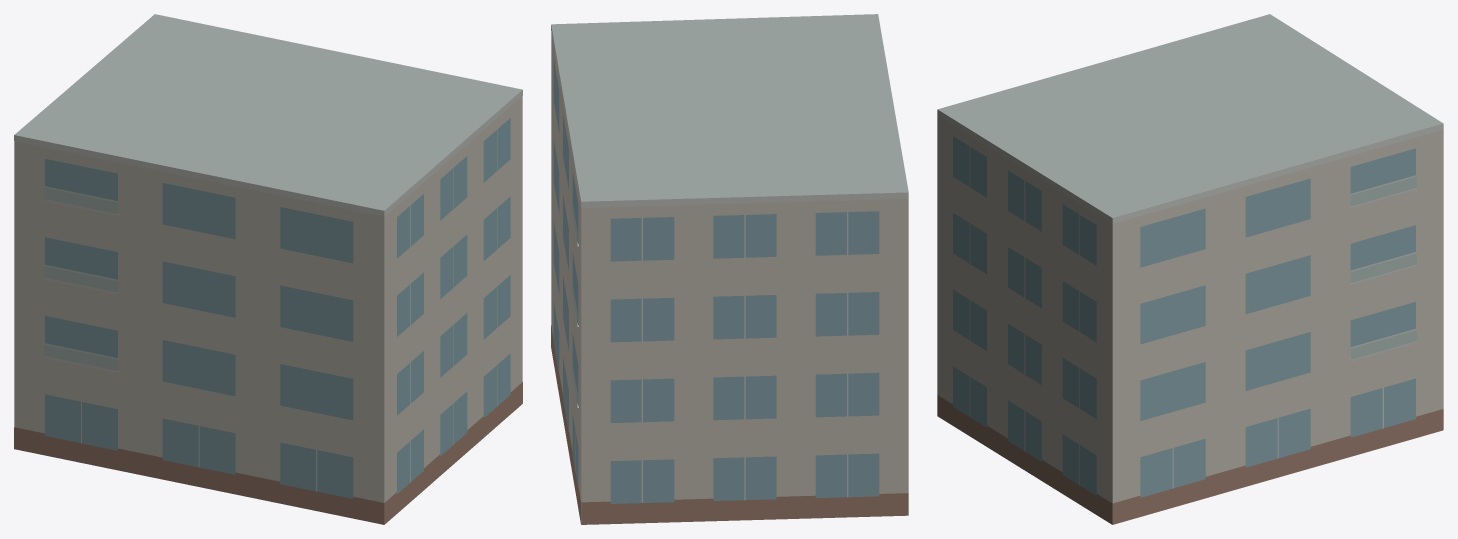
The model's file is survey-upis-32977647.glb.
The picture shows the model from 3 angles, left to right: view 1: azimuth 30°, elevation 25°; view 2: azimuth 150°, elevation 25°; view 3: azimuth 270°, elevation 25°; orthographic projection. The views are drawn at different scales.
Visible parts, largest first — view 1: survey-upis-32977647.tmp; view 2: survey-upis-32977647.tmp; view 3: survey-upis-32977647.tmp.
Boxes of the visible parts, x1,y1,x2,y2 form: survey-upis-32977647.tmp: [14, 14, 522, 524]; survey-upis-32977647.tmp: [551, 14, 908, 524]; survey-upis-32977647.tmp: [937, 14, 1443, 524].
Bounding box in the file's own units: 17.98 × 12.6 × 18.84.
